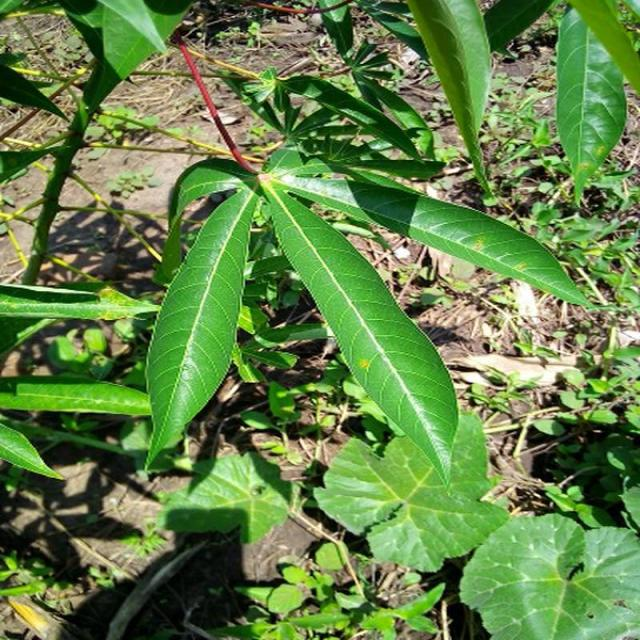cassava leaf: (260, 175, 460, 488), (144, 184, 259, 472), (314, 408, 512, 573), (459, 511, 640, 638), (408, 0, 494, 194), (556, 4, 629, 203)
